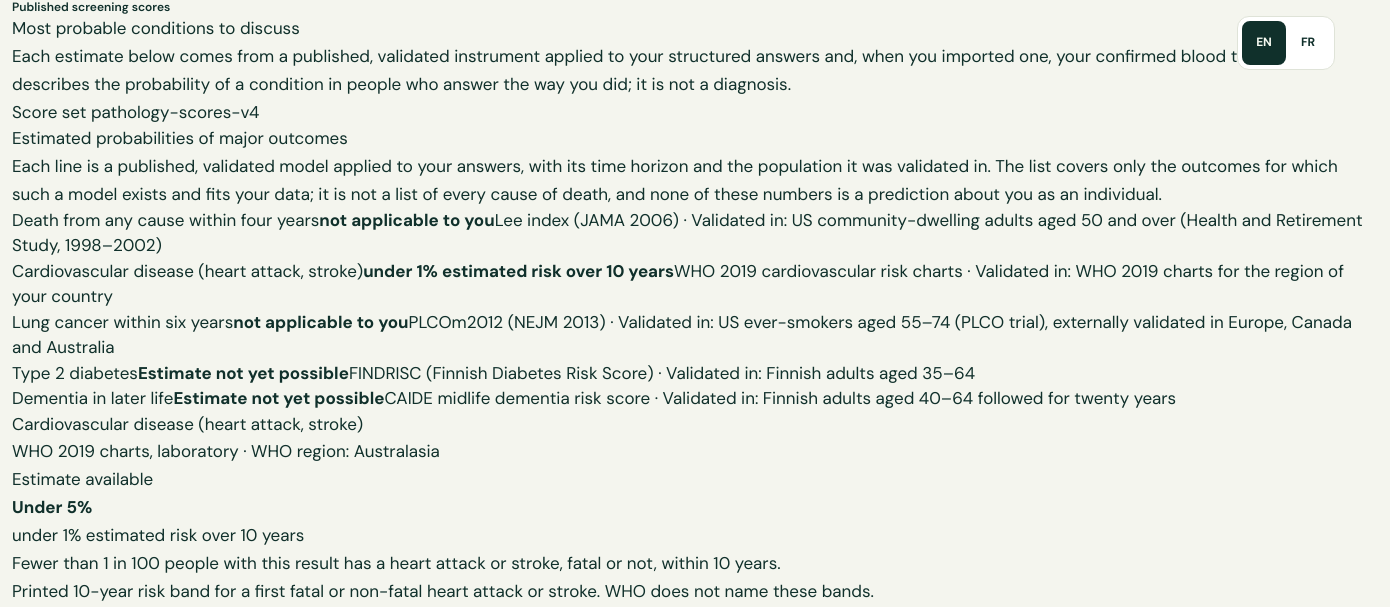
Test: WHO zero and regional variant read correctly in English and French
This screenshot has width=1390, height=607.
expect the text "WHO 2019 charts, laboratory · WHO region: Australasia" is shown: met, box 12,440 -> 440,462
expect the list item "Cardiovascular disease (heart attack, stroke)" shows "Under 5%": met, box 12,496 -> 92,518
Click the button with aria-label "Français" at coordinates (1308, 43), box 1286,21 -> 1330,65
(page scrolled)
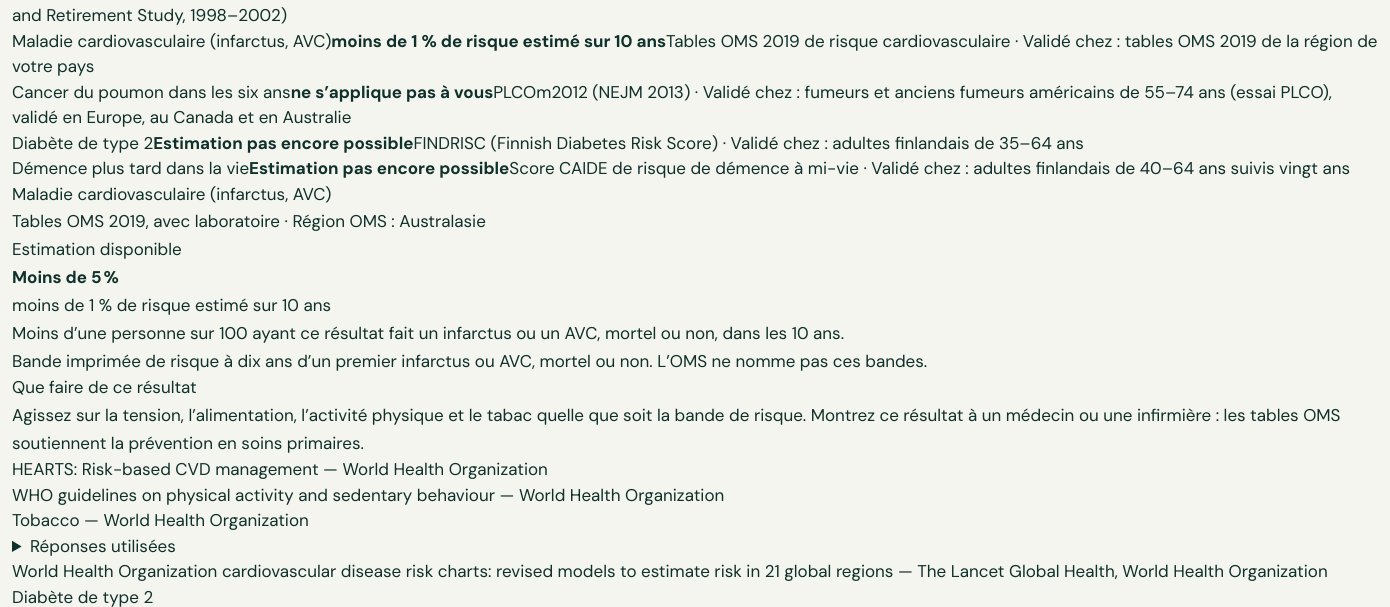
expect the list item named "Cardiovascular disease (heart attack, stroke)" shows "Moins d’une personne sur 100": met, box 12,322 -> 844,344
